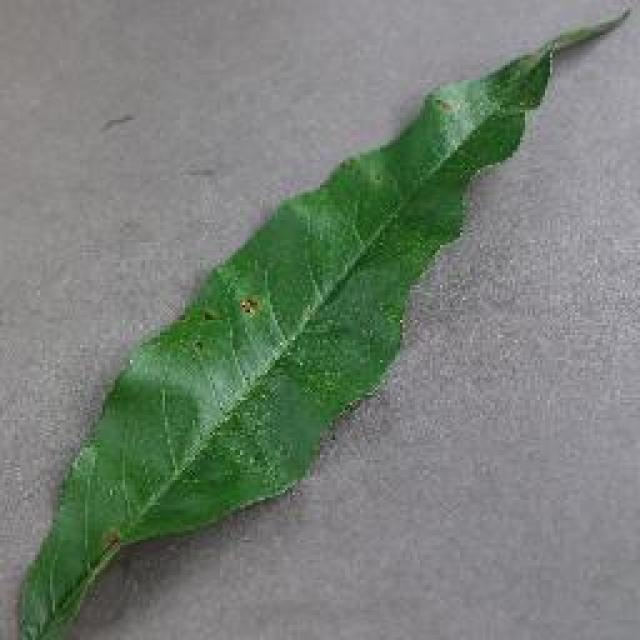Peach_Bacterial_Spot: (182, 215, 342, 393)
